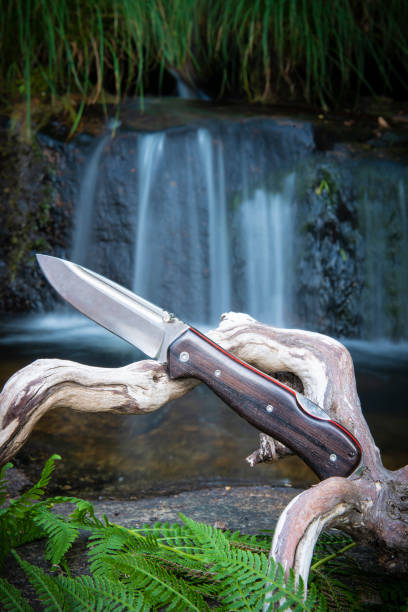knife: (30, 250, 366, 485)
